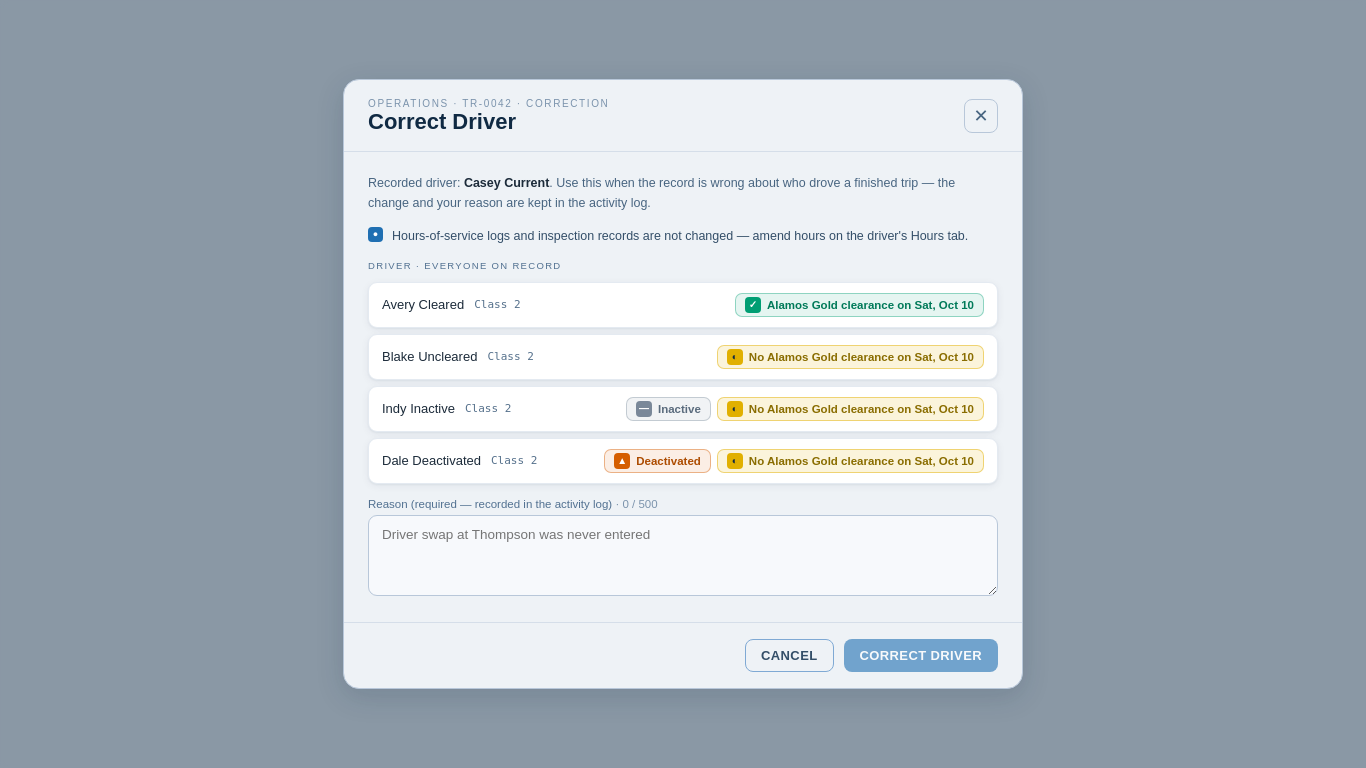
CorrectDriverModal › shows the server's error message verbatim and stays open
Click the radio button labelled "Avery Cleared Class 2 ✓ Alamos Gold clearance on Sat, Oct 10".
click(423, 305)  # box 368,282 -> 998,328
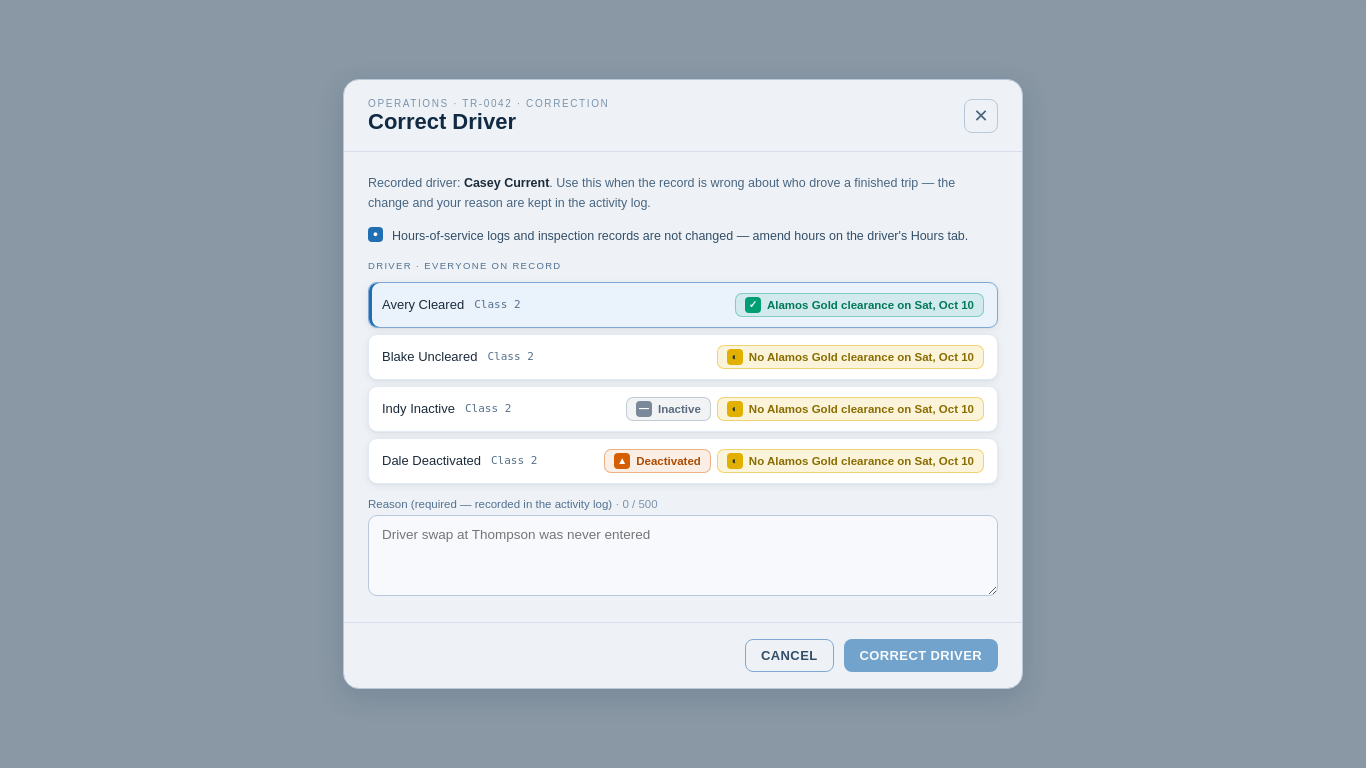
Type "Fix it" into the text box.
click(683, 555); type("Fix it")  # box 368,515 -> 998,596
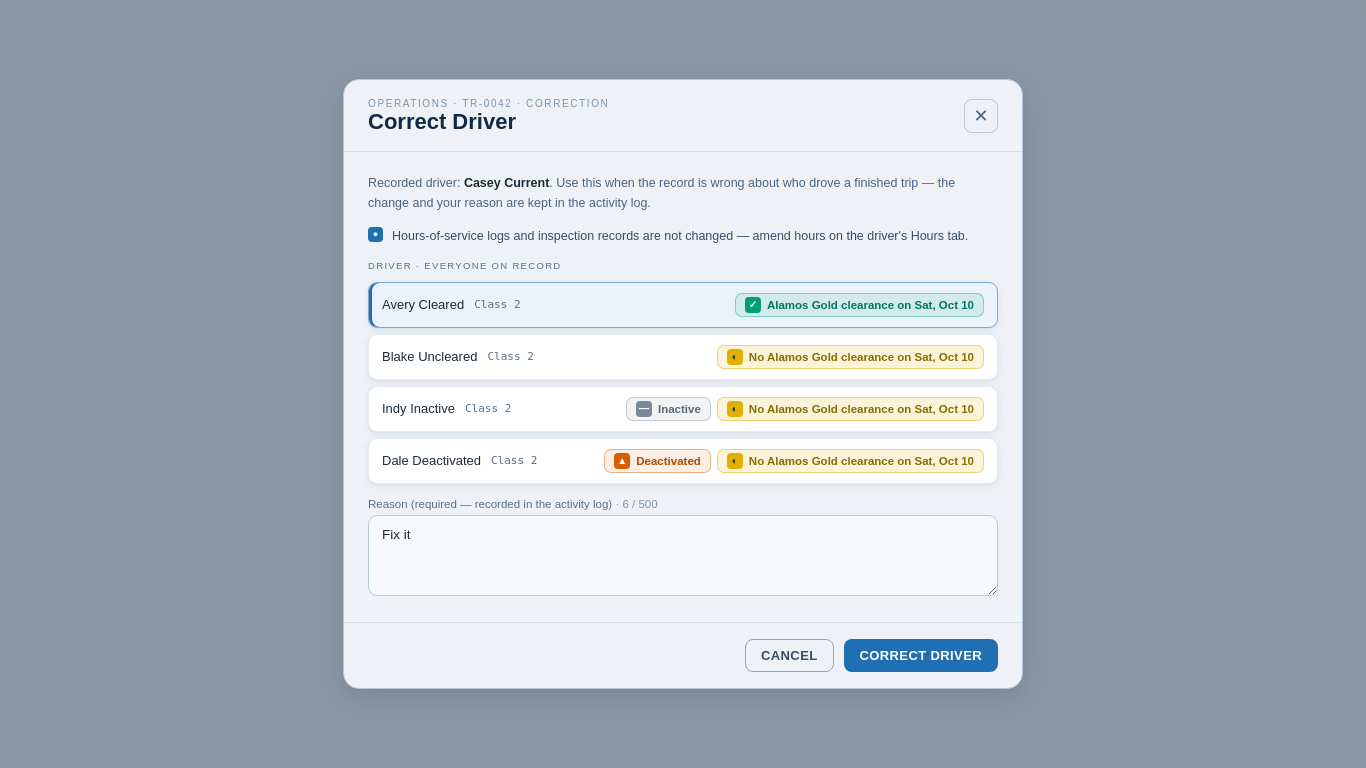
Click the text "CORRECT DRIVER".
click(921, 655)  # box 844,639 -> 998,672
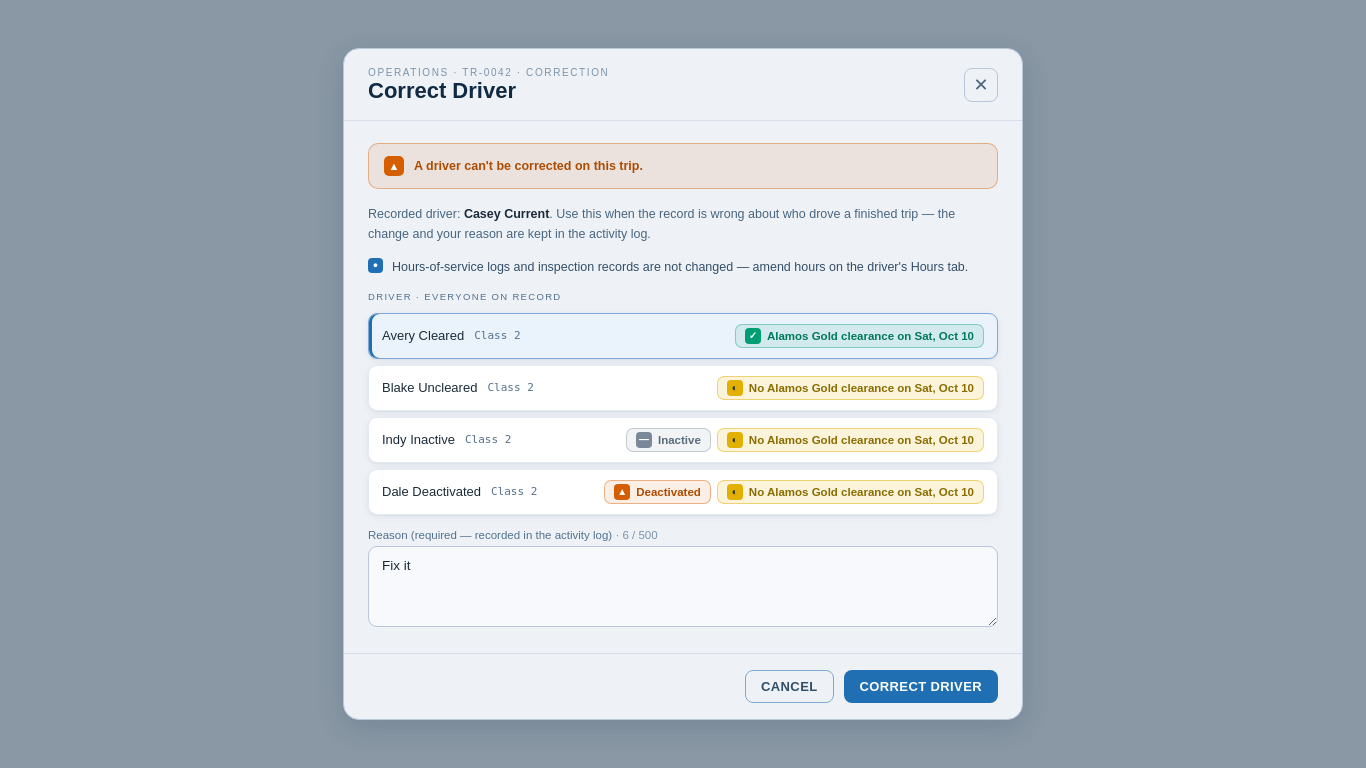
Now the text "A driver can't be corrected on this trip." is shown, box 414,159 -> 643,173
